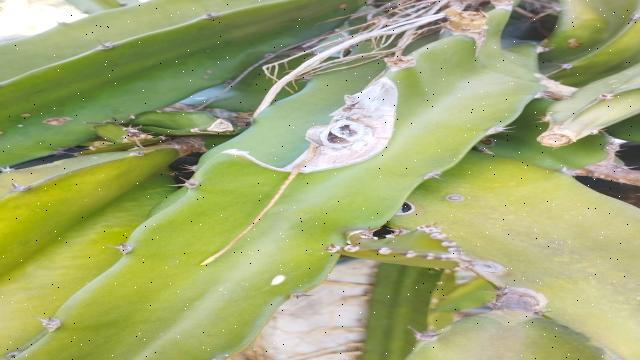stemcanker: (36, 111, 86, 130), (444, 190, 470, 205)
